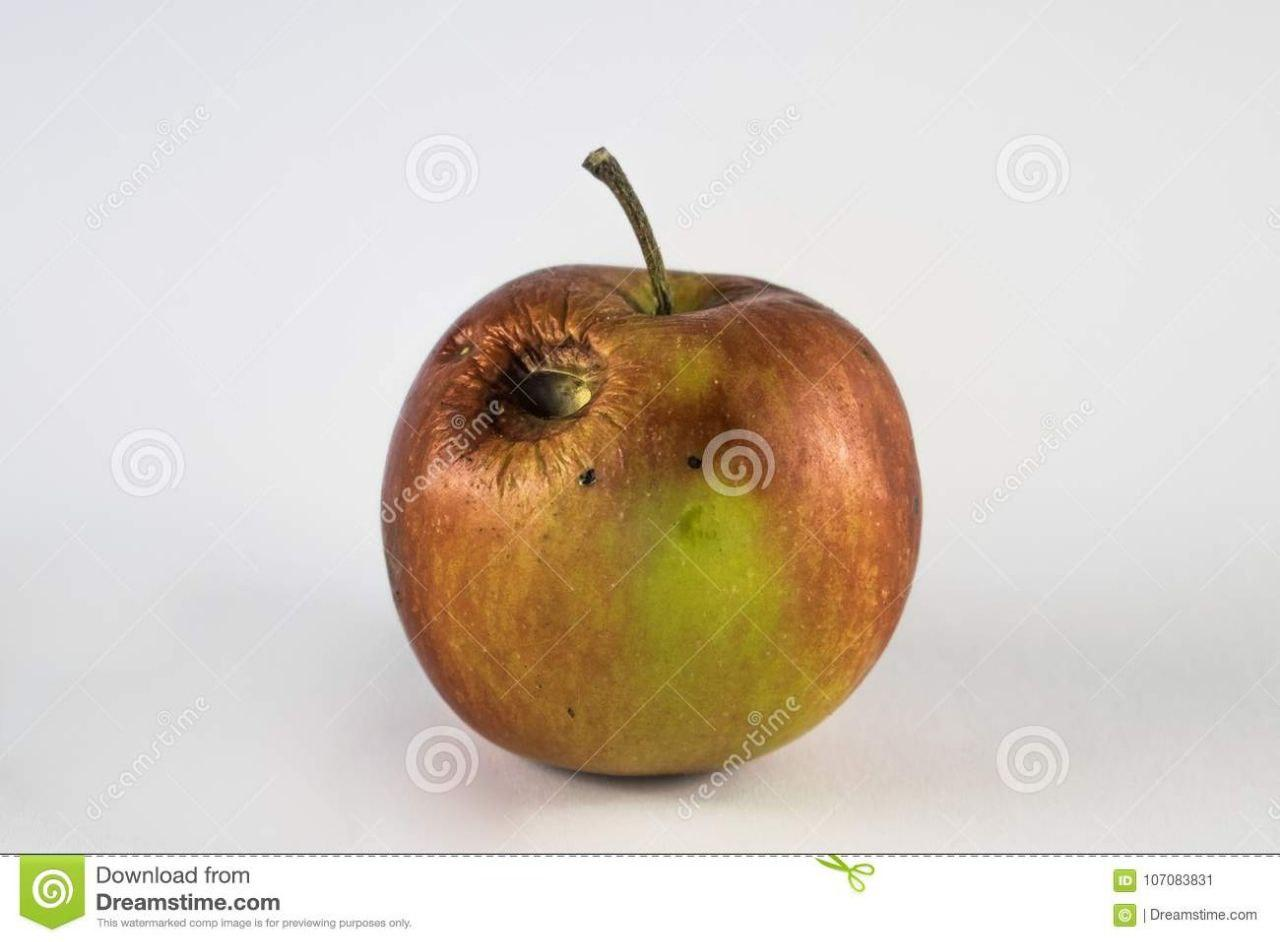Apple: (376, 264, 924, 782)
